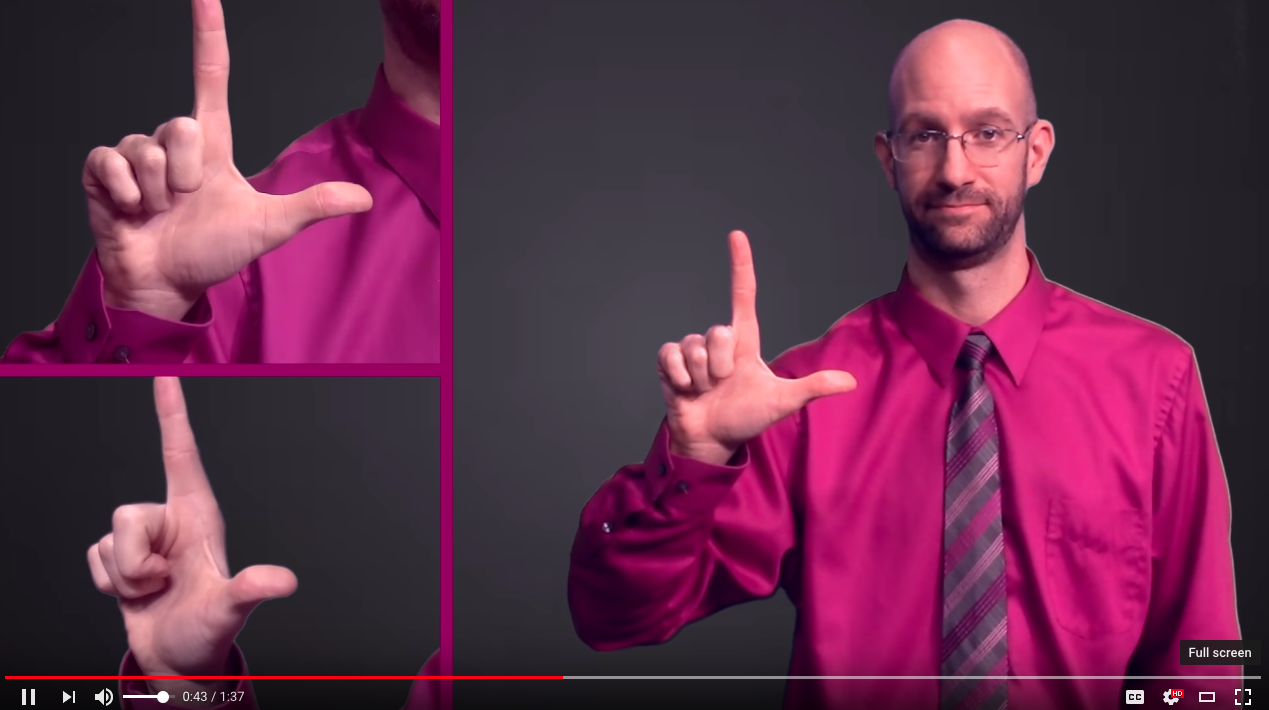l: (67, 1, 384, 298), (47, 376, 321, 679), (635, 220, 865, 468)
